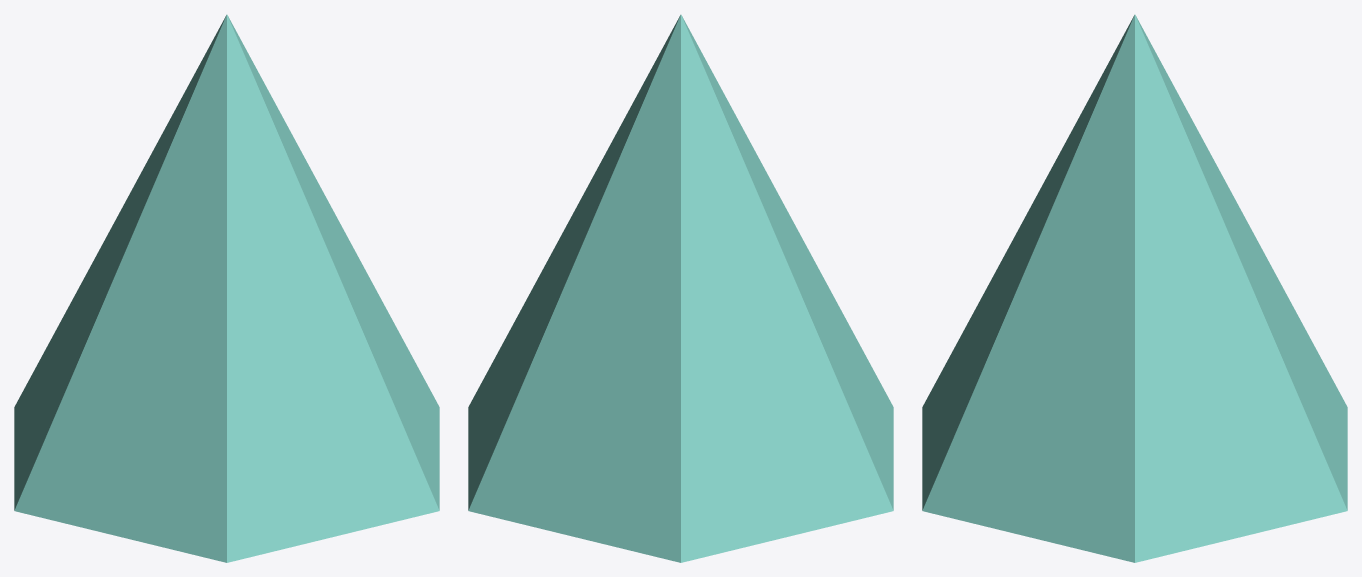
The model's file is Item.fbx.
3 renders of one model, left to right at view 1: azimuth 30°, elevation 25°; view 2: azimuth 150°, elevation 25°; view 3: azimuth 270°, elevation 25°, orthographic.
Parts seen in each view (by area): view 1: pCone1; view 2: pCone1; view 3: pCone1.
Part boxes in pixels (<box>): pCone1: <box>14,14,439,562</box>; pCone1: <box>468,14,893,562</box>; pCone1: <box>922,14,1347,562</box>.
Bounding box in the file's own units: 0.4 × 0.4 × 0.3464.
